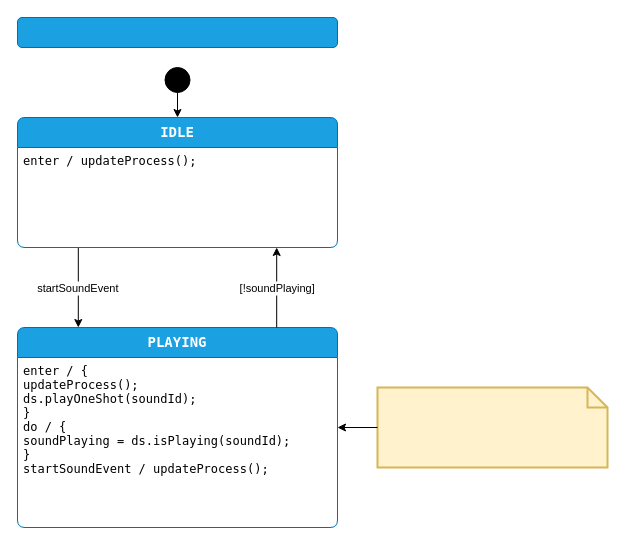
Some shapes in this 626 by 545 pixel diagram are drawn without their labels. Each missing label, with the centre of its shape:
"$STATEMACHINE : {fileName}" goes at point (177, 32).
"Ignore startSoundEvent when already playing" goes at point (492, 427).
